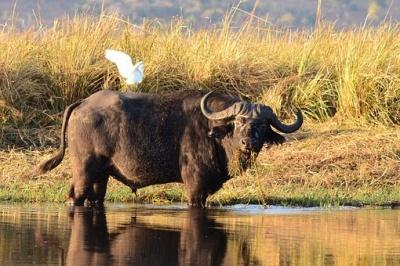buffalo: (39, 90, 302, 206)
